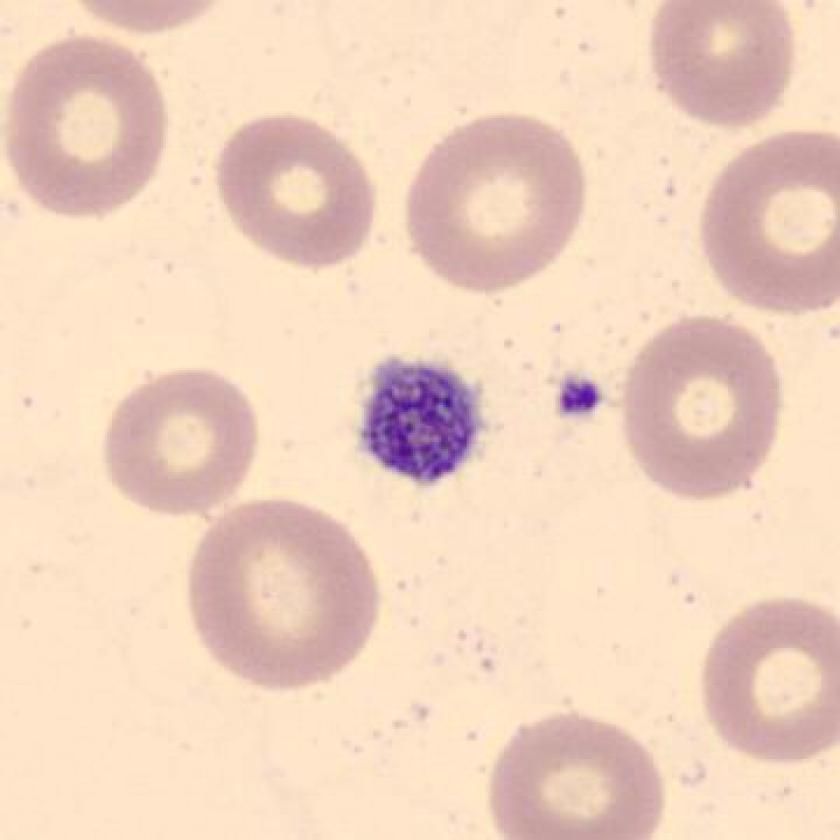platelets: (353, 351, 491, 490), (552, 367, 615, 427)
